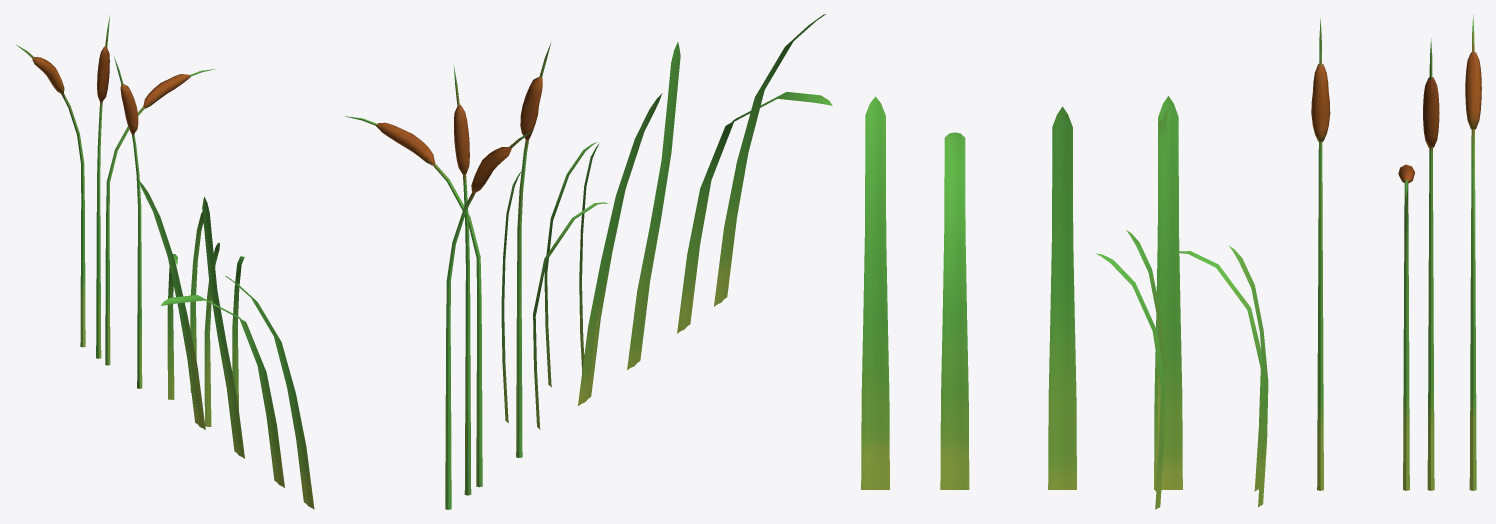
Rendered from cattail.fbx.
The picture shows the model from 3 angles, left to right: view 1: azimuth 30°, elevation 25°; view 2: azimuth 150°, elevation 25°; view 3: azimuth 270°, elevation 25°; orthographic projection. The views are drawn at different scales.
Visible parts, largest first — view 1: hoja_grande_03, hoja_grande_04, hoja_grande_02, rama_03, rama_02, rama_01, hoja_grande_01, rama_04, hoja_chica_02, hoja_chica_04, hoja_chica_01, hoja_chica_03; view 2: hoja_grande_03, hoja_grande_04, hoja_grande_02, rama_02, rama_01, hoja_grande_01, rama_03, rama_04, hoja_chica_04, hoja_chica_01, hoja_chica_03, hoja_chica_02; view 3: hoja_grande_01, hoja_grande_03, hoja_grande_02, hoja_grande_04, rama_01, rama_04, rama_03, rama_02, hoja_chica_01, hoja_chica_03, hoja_chica_04, hoja_chica_02.
Boxes of the visible parts, x1=… form: hoja_grande_03: x1=202, y1=197, x2=244, y2=458; hoja_grande_04: x1=138, y1=180, x2=205, y2=429; hoja_grande_02: x1=161, y1=295, x2=284, y2=487; rama_03: x1=96, y1=15, x2=109, y2=358; rama_02: x1=105, y1=69, x2=215, y2=365; rama_01: x1=114, y1=56, x2=142, y2=388; hoja_grande_01: x1=225, y1=276, x2=314, y2=509; rama_04: x1=15, y1=44, x2=85, y2=347; hoja_chica_02: x1=204, y1=242, x2=219, y2=426; hoja_chica_04: x1=167, y1=254, x2=177, y2=399; hoja_chica_01: x1=232, y1=256, x2=244, y2=409; hoja_chica_03: x1=190, y1=211, x2=203, y2=392; hoja_grande_03: x1=627, y1=42, x2=680, y2=370; hoja_grande_04: x1=578, y1=93, x2=662, y2=405; hoja_grande_02: x1=677, y1=92, x2=832, y2=333; rama_02: x1=345, y1=116, x2=482, y2=487; rama_01: x1=516, y1=42, x2=551, y2=457; hoja_grande_01: x1=714, y1=14, x2=825, y2=306; rama_03: x1=453, y1=65, x2=471, y2=495; rama_04: x1=445, y1=130, x2=533, y2=509; hoja_chica_04: x1=533, y1=202, x2=608, y2=429; hoja_chica_01: x1=544, y1=142, x2=596, y2=387; hoja_chica_03: x1=501, y1=171, x2=521, y2=423; hoja_chica_02: x1=579, y1=143, x2=599, y2=372; hoja_grande_01: x1=861, y1=96, x2=889, y2=489; hoja_grande_03: x1=1048, y1=106, x2=1076, y2=489; hoja_grande_02: x1=940, y1=132, x2=969, y2=489; hoja_grande_04: x1=1154, y1=96, x2=1182, y2=489; rama_01: x1=1311, y1=18, x2=1330, y2=490; rama_04: x1=1465, y1=15, x2=1481, y2=490; rama_03: x1=1423, y1=38, x2=1439, y2=490; rama_02: x1=1398, y1=164, x2=1414, y2=490; hoja_chica_01: x1=1096, y1=253, x2=1165, y2=509; hoja_chica_03: x1=1229, y1=246, x2=1268, y2=507; hoja_chica_04: x1=1174, y1=251, x2=1263, y2=491; hoja_chica_02: x1=1126, y1=230, x2=1165, y2=491.
Bounding box in the file's own units: 6.25 × 9.1 × 11.15.
